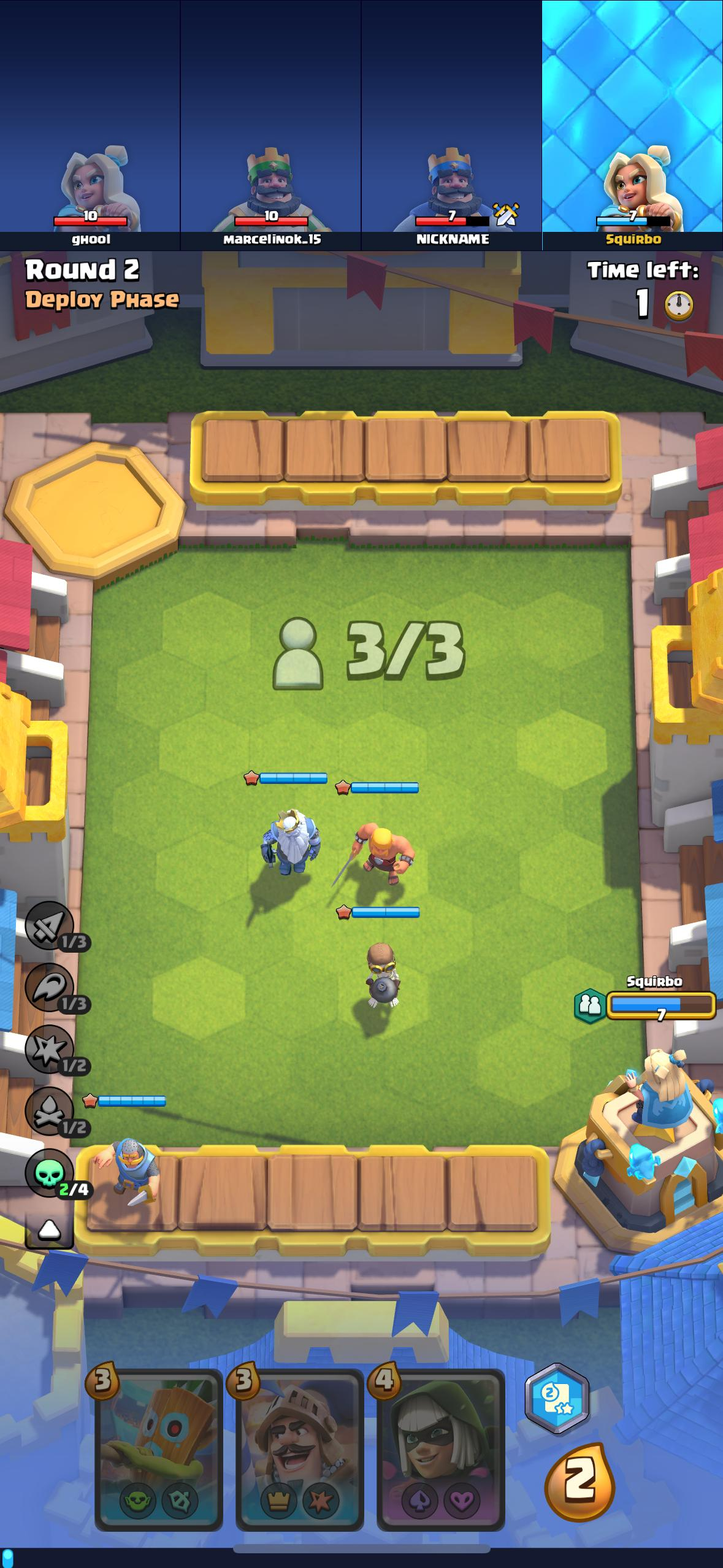barbarian: (346, 816, 411, 883)
bomber: (353, 939, 406, 1010)
ghost: (258, 803, 322, 879)
hand-bandit: (379, 1369, 501, 1528)
hand-dart: (93, 1373, 222, 1528)
hand-prince: (239, 1369, 362, 1527)
knight: (93, 1129, 163, 1211)
